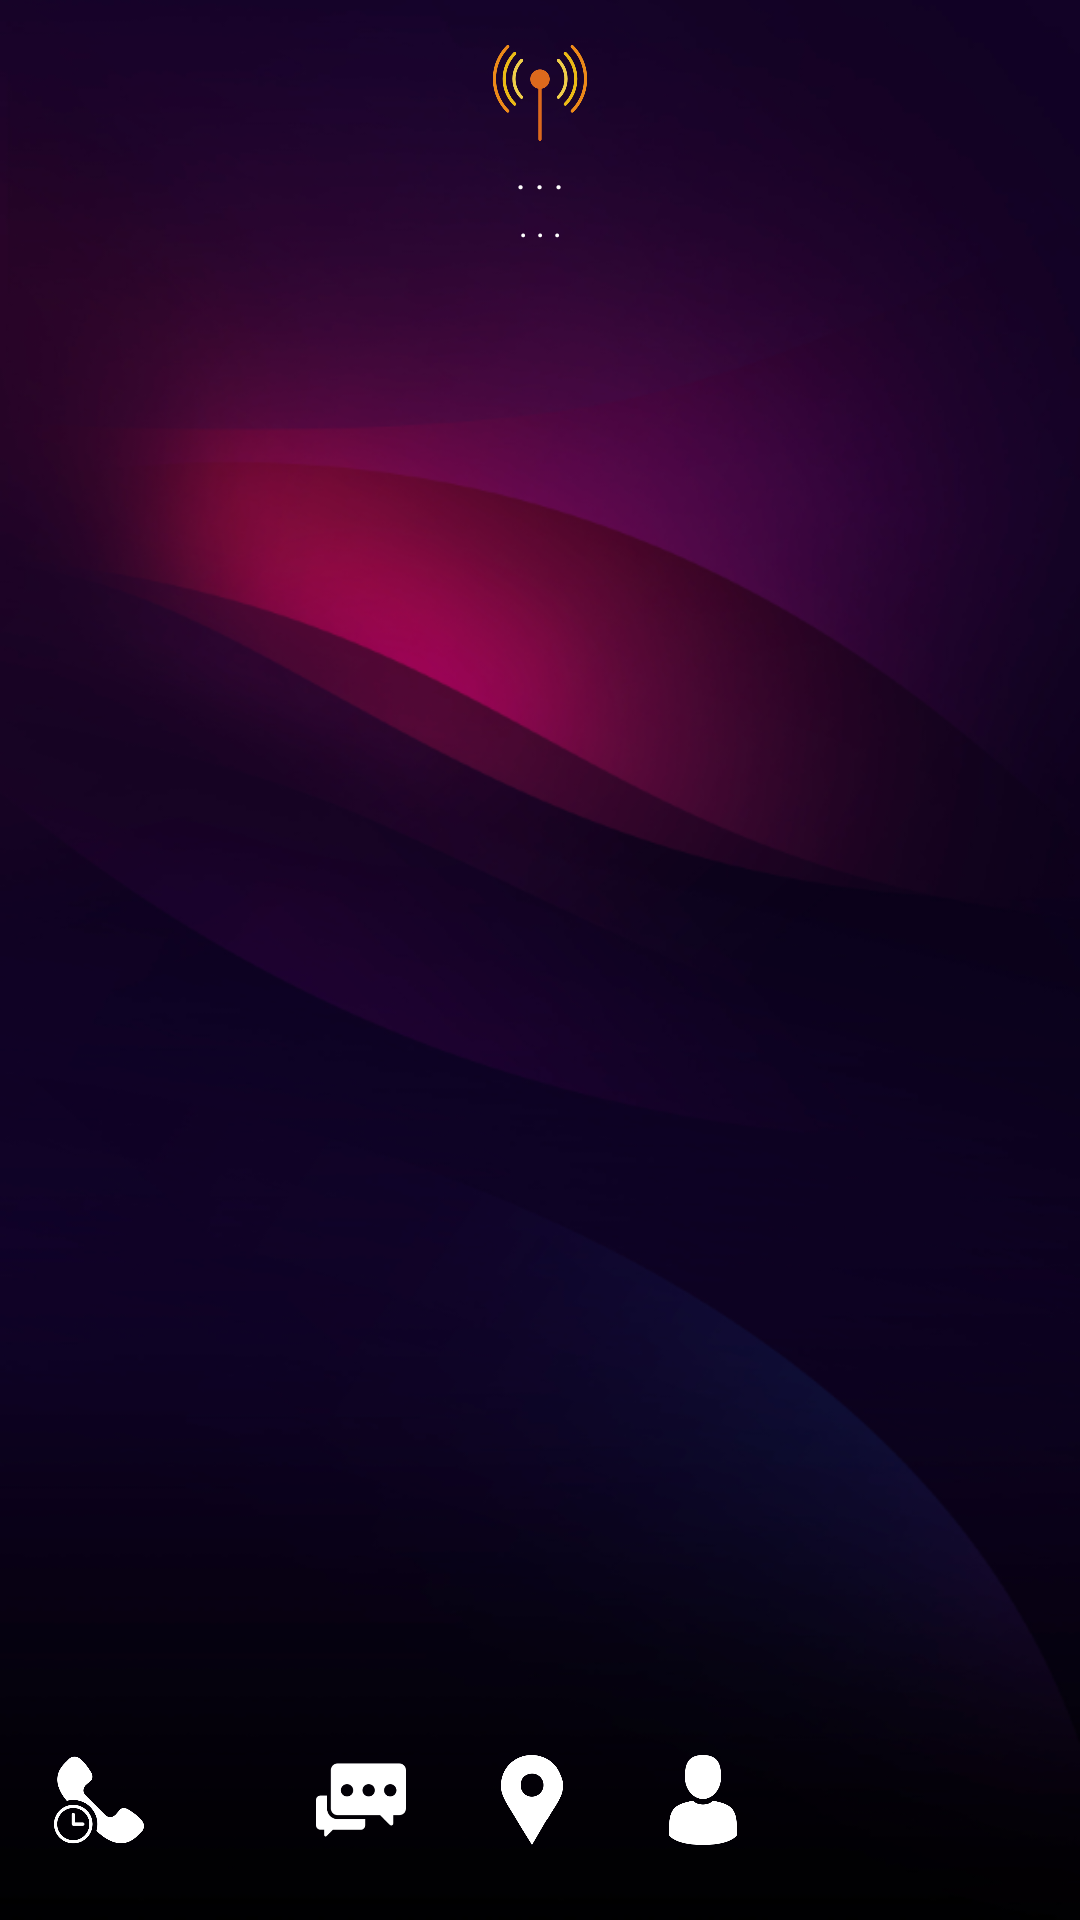

Where to tap for icons on this 1080 × 1920 app screen, as point (x, y):
chat on: point (361, 1800)
location: point (532, 1800)
signal: point (540, 93)
users state: point (703, 1800)
